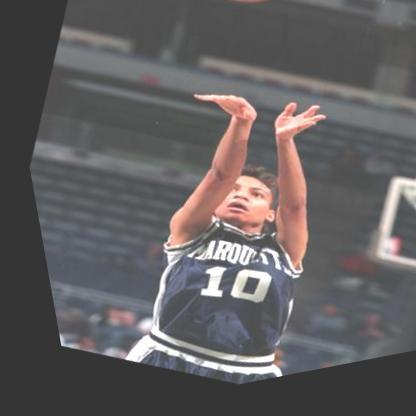basketball: (177, 0, 302, 39)
